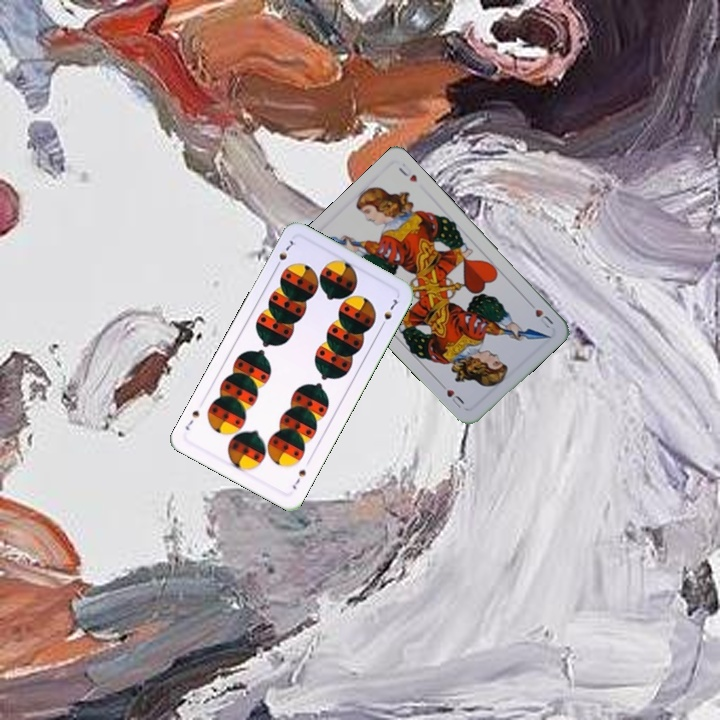HU: (524, 298, 556, 331)
S7: (271, 234, 299, 272), (288, 465, 309, 492)
